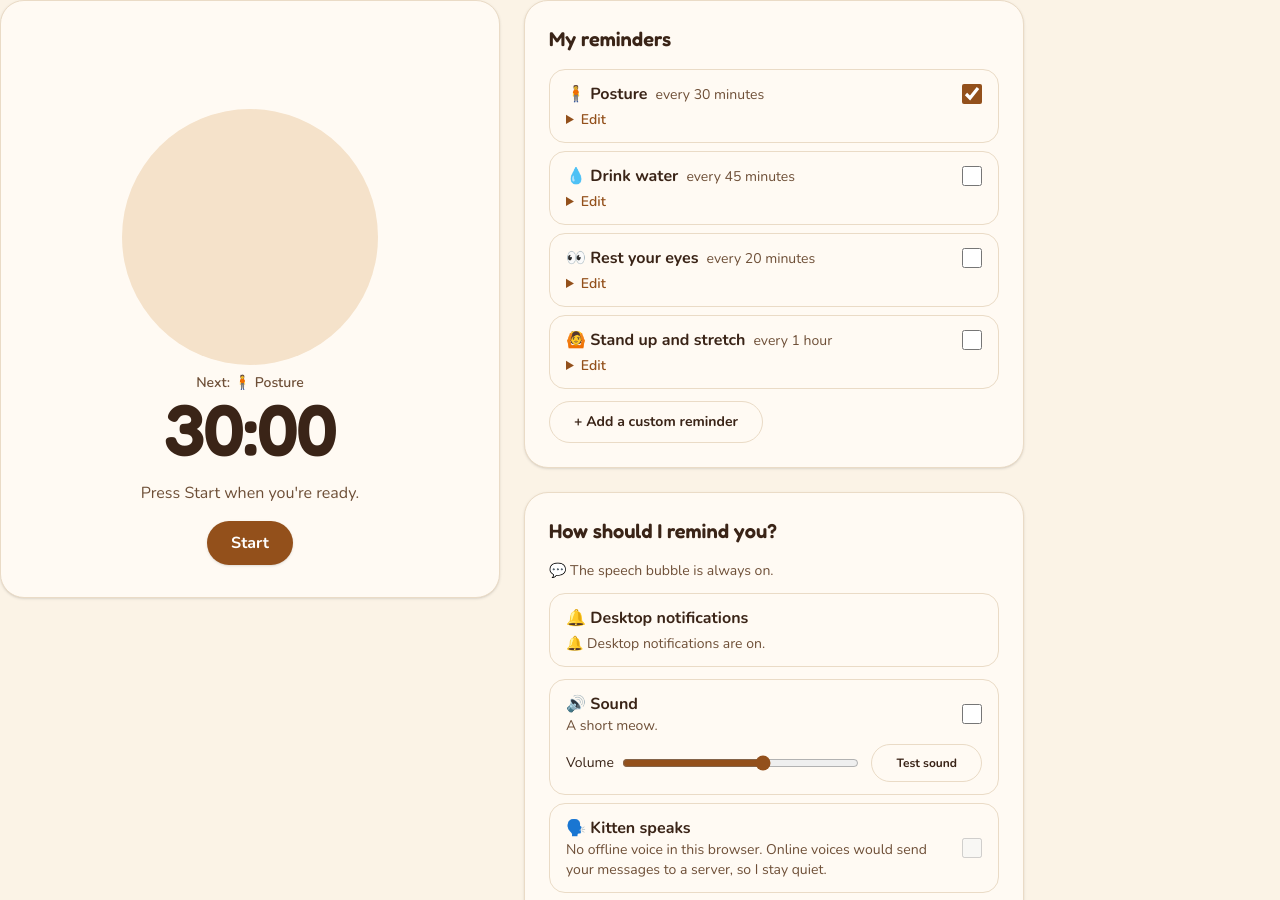
several reminders › runs each on its own timer, with its own messages and notification title
Later steps or results of the test are not shown.
Click the switch named "Rest your eyes on". click: (972, 258)
box: [962,248,982,268]
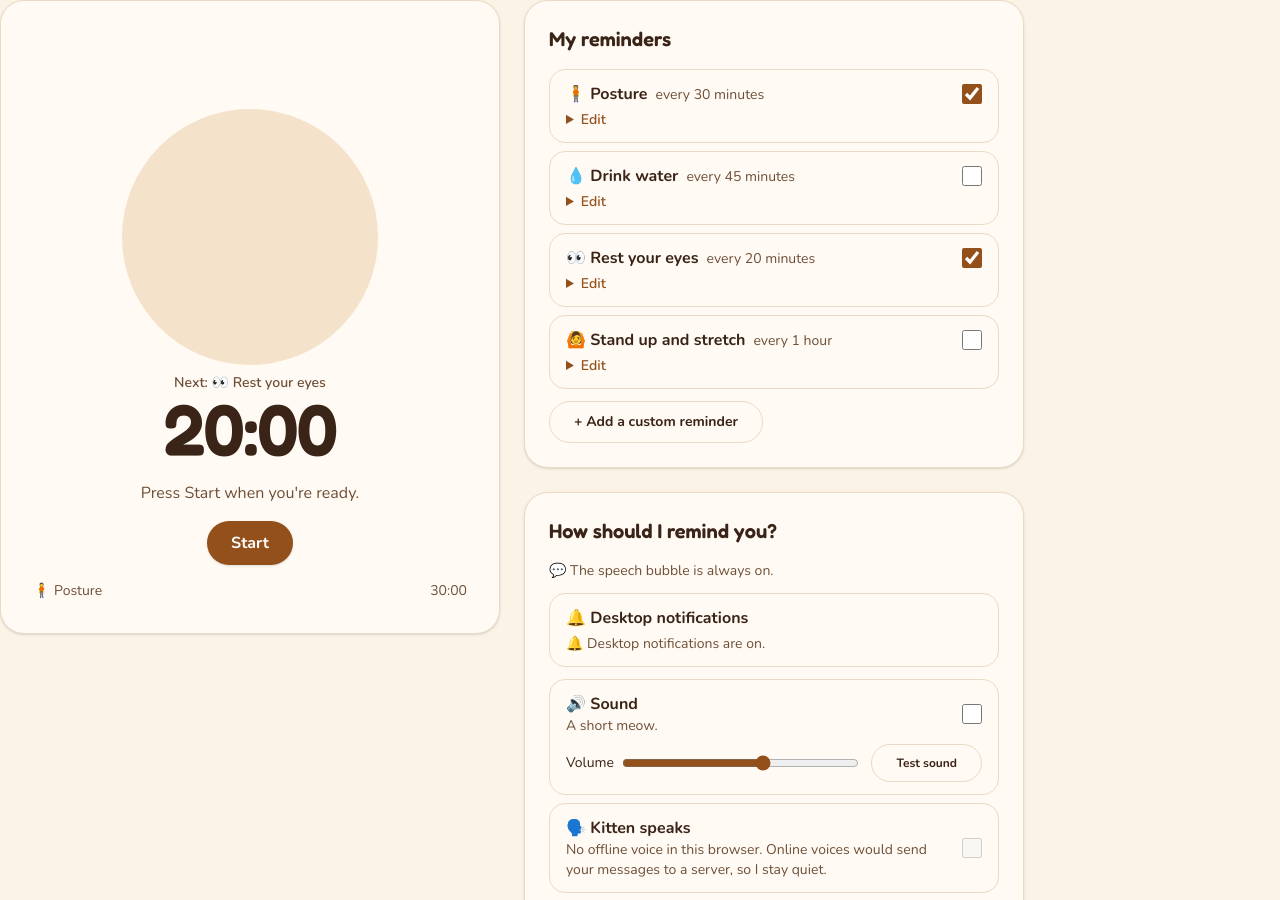
Expected: the text with test id "upcoming-posture" reads "30:00", [430,581,467,600]
Expected: the element with test id "next-label" shows "Rest your eyes", [233,373,326,392]
Click the button "Start". click: (250, 543)
box: [207,521,293,565]
Wait 1800000 ms
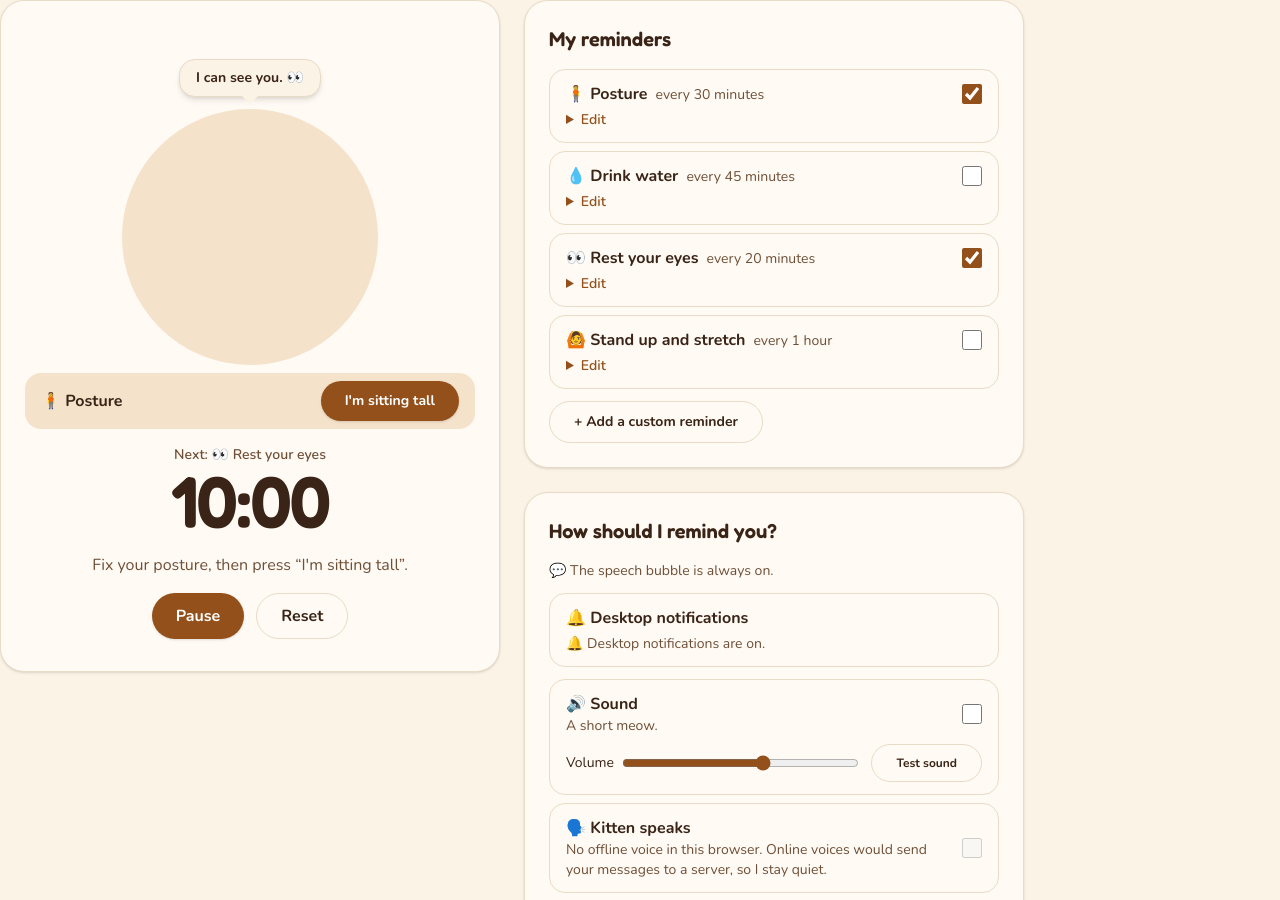
Expected: the button "I'm sitting tall" is shown, [321,381,459,421]
